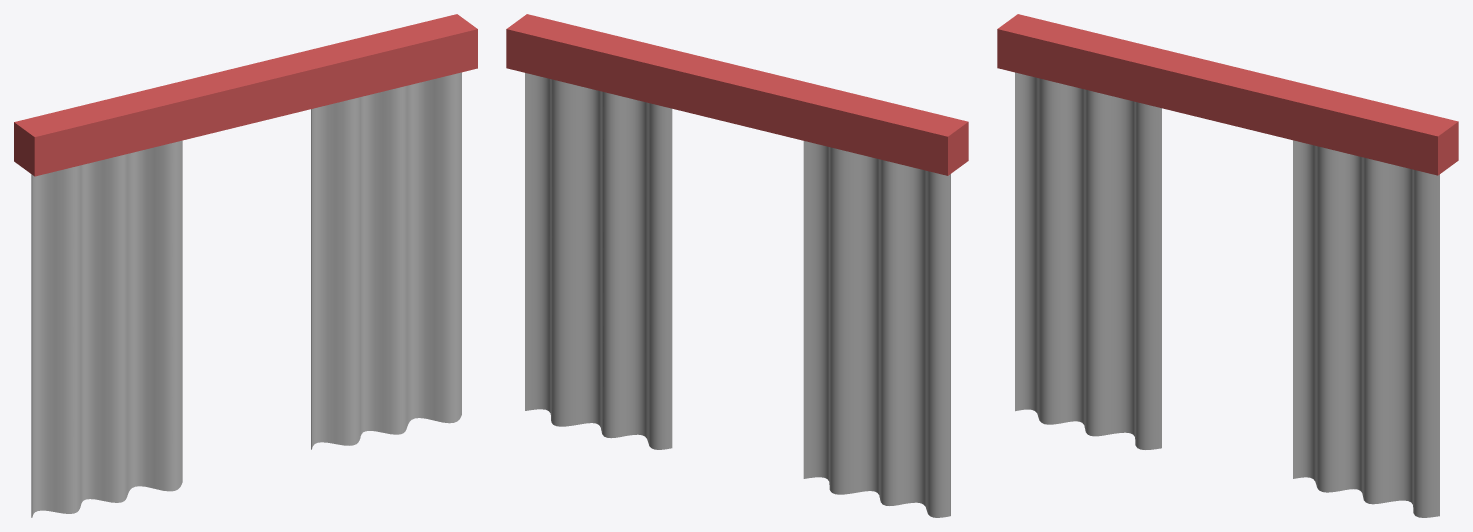
File: 2536fe19-89d3-4d1d-905c-25202507ace1.glb
The picture shows the model from 3 angles, left to right: view 1: azimuth 30°, elevation 25°; view 2: azimuth 150°, elevation 25°; view 3: azimuth 330°, elevation 25°; orthographic projection.
Parts seen in each view (by area): view 1: Line001, Line002, ChamferBox001; view 2: Line001, Line002, ChamferBox001; view 3: Line002, Line001, ChamferBox001.
Boxes of the visible parts, x1,y1,x2,y2 form: Line001: (31, 140, 182, 517); Line002: (311, 72, 461, 449); ChamferBox001: (14, 14, 477, 176); Line001: (803, 141, 950, 517); Line002: (525, 73, 672, 449); ChamferBox001: (506, 14, 968, 175); Line002: (1293, 140, 1439, 517); Line001: (1015, 72, 1161, 449); ChamferBox001: (997, 14, 1458, 175).
Bounding box in the file's own units: 68.86 × 57.9 × 5.56.
